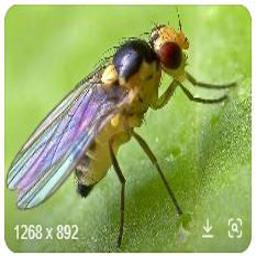liriomyza: (4, 19, 237, 247)
